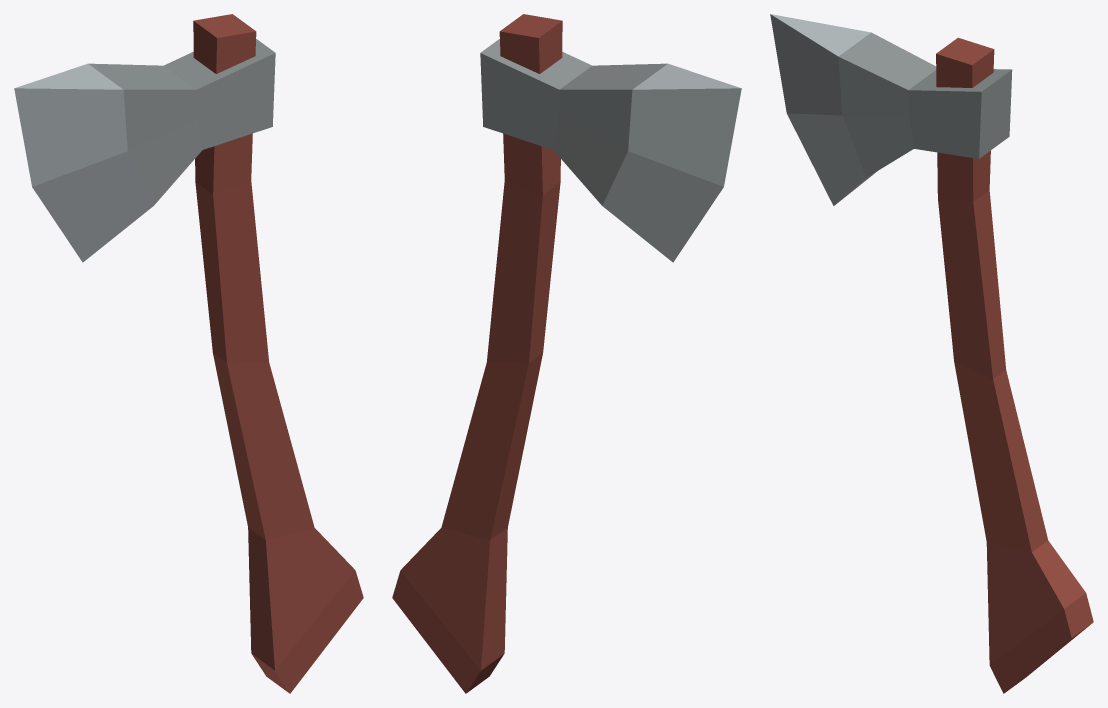
The model's file is Axe_1_Red.fbx.
3 renders of one model, left to right at view 1: azimuth 30°, elevation 25°; view 2: azimuth 150°, elevation 25°; view 3: azimuth 330°, elevation 25°, orthographic. The views are drawn at different scales.
Parts seen in each view (by area): view 1: Axe_1_Red_Part_3, Axe_1_Red_Part_2, Axe_1_Red_Part_1; view 2: Axe_1_Red_Part_3, Axe_1_Red_Part_2, Axe_1_Red_Part_1; view 3: Axe_1_Red_Part_3, Axe_1_Red_Part_1, Axe_1_Red_Part_2.
Boxes of the visible parts, box(x1,y1,x2,y2) form: Axe_1_Red_Part_3: box(193, 14, 363, 693); Axe_1_Red_Part_2: box(14, 63, 153, 262); Axe_1_Red_Part_1: box(88, 39, 275, 205); Axe_1_Red_Part_3: box(392, 14, 562, 693); Axe_1_Red_Part_2: box(602, 63, 741, 262); Axe_1_Red_Part_1: box(480, 39, 667, 205); Axe_1_Red_Part_3: box(936, 37, 1093, 693); Axe_1_Red_Part_1: box(838, 32, 1012, 177); Axe_1_Red_Part_2: box(770, 14, 877, 205).
Size of the model in its own units: 50.11 by 95.53 by 9.17.
